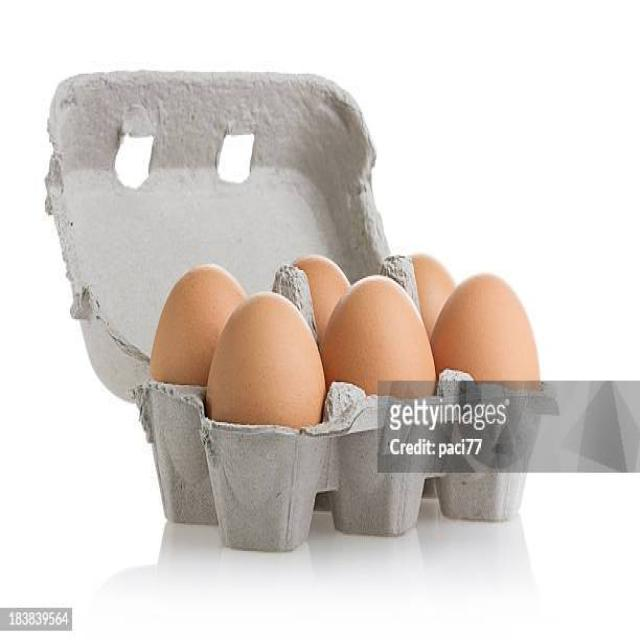eggs: (205, 292, 328, 425), (320, 276, 438, 400), (429, 273, 542, 391), (151, 264, 247, 385), (293, 257, 354, 348), (408, 252, 457, 342)
